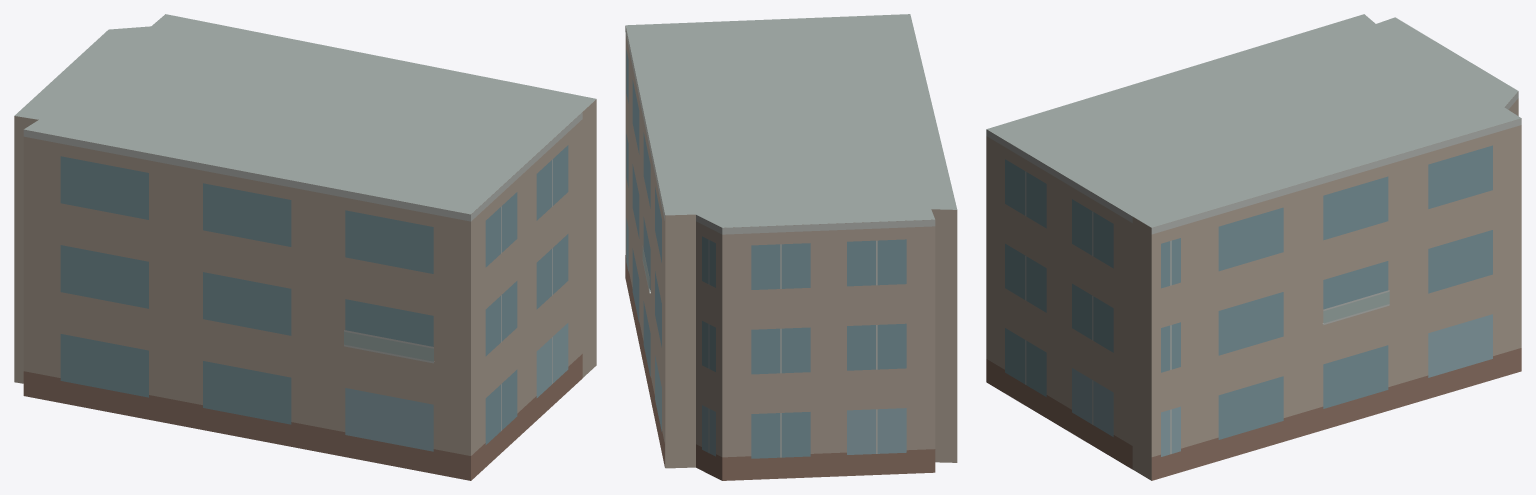
File: survey-upis-32581647.glb
The picture shows the model from 3 angles, left to right: view 1: azimuth 30°, elevation 25°; view 2: azimuth 150°, elevation 25°; view 3: azimuth 270°, elevation 25°; orthographic projection. The views are drawn at different scales.
Visible parts, largest first — view 1: survey-upis-32581647.tmp; view 2: survey-upis-32581647.tmp; view 3: survey-upis-32581647.tmp.
Boxes of the visible parts, x1,y1,x2,y2 form: survey-upis-32581647.tmp: (14,14,596,480); survey-upis-32581647.tmp: (625,14,957,480); survey-upis-32581647.tmp: (986,14,1521,480).
Bounding box in the file's own units: 16.59 × 9.15 × 17.55.
